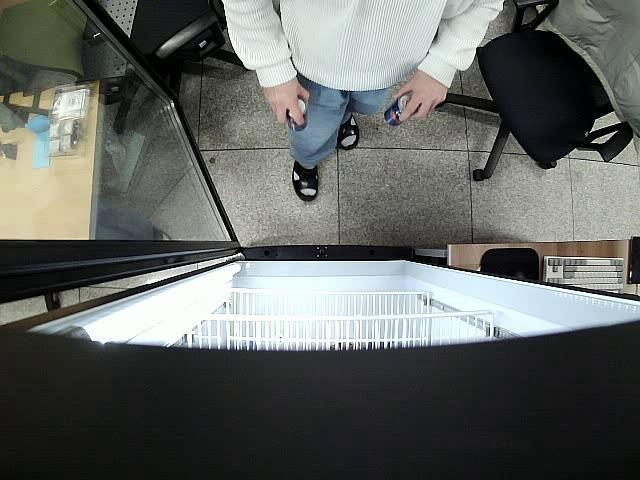16_hot6: (383, 92, 410, 126), (288, 98, 308, 134)
